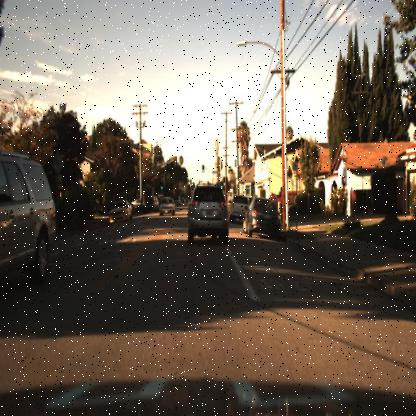car: (0, 152, 58, 294), (180, 178, 233, 252), (241, 193, 285, 238), (104, 186, 135, 226), (224, 192, 248, 230), (156, 192, 178, 222)
trafficLight: (198, 162, 206, 176), (157, 182, 163, 194), (219, 182, 224, 194), (223, 180, 226, 191)
trafficLight-Green: (200, 163, 206, 176), (158, 181, 165, 192), (222, 178, 227, 190)
